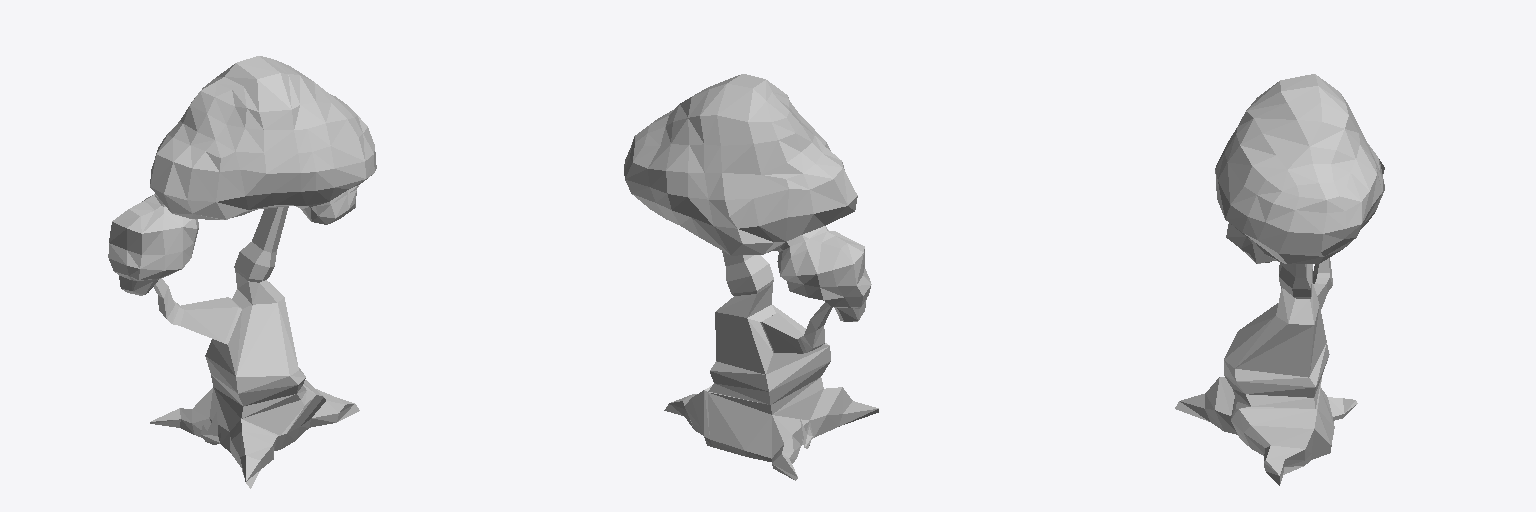
File: tree_01.obj
3 views of the same model, side by side, from view 1: azimuth 30°, elevation 25°; view 2: azimuth 150°, elevation 25°; view 3: azimuth 270°, elevation 25° (orthographic).
Parts seen in each view (by area): view 1: Mball.009_Mesh, Plane; view 2: Mball.009_Mesh, Plane; view 3: Mball.009_Mesh, Plane.
Boxes of the visible parts, x1=… form: Mball.009_Mesh: x1=108, y1=56, x2=376, y2=295; Plane: x1=150, y1=206, x2=359, y2=488; Mball.009_Mesh: x1=624, y1=74, x2=871, y2=321; Plane: x1=664, y1=251, x2=878, y2=480; Mball.009_Mesh: x1=1215, y1=74, x2=1384, y2=263; Plane: x1=1175, y1=258, x2=1357, y2=485.
Size of the model in its own units: 5.24 by 7.46 by 3.93.